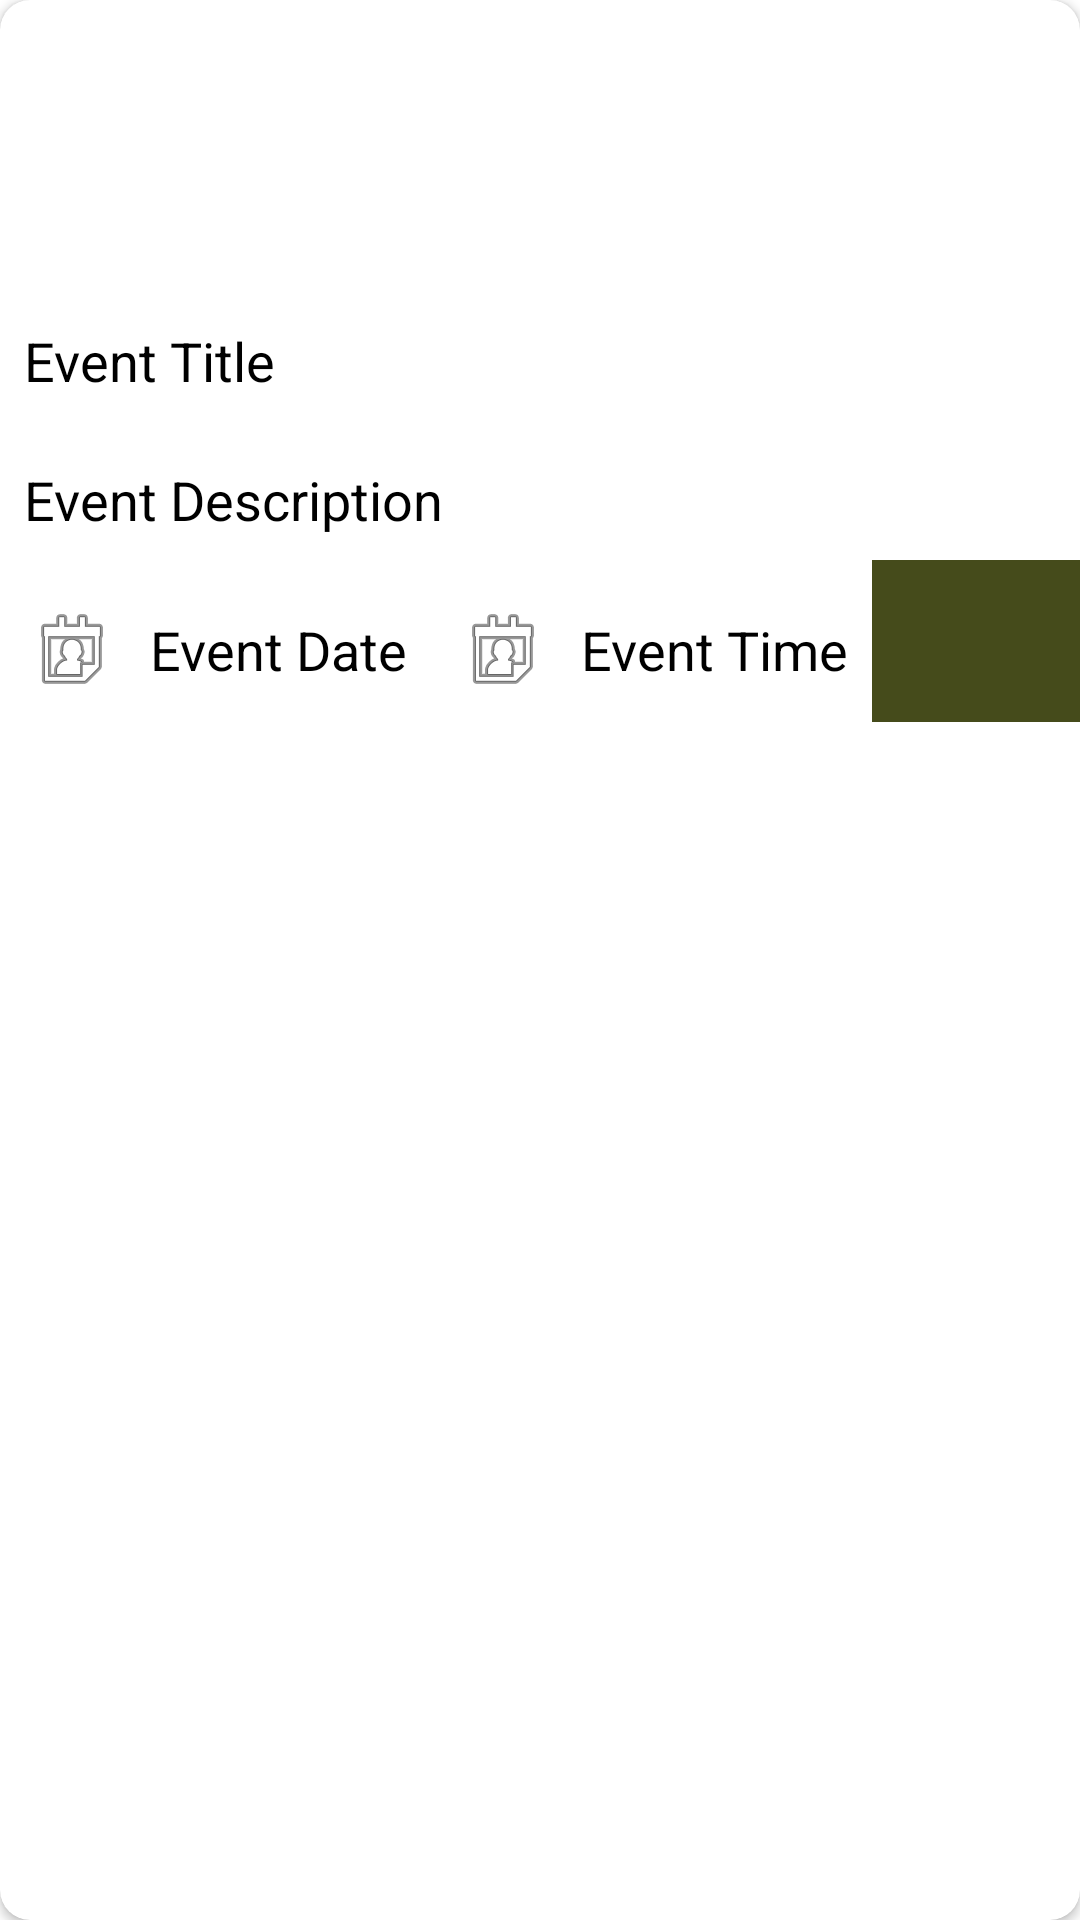

Icon click points for this 1080x1920 phone screenshot, format point (x, y):
calendar: point (72, 649), point (503, 649)
